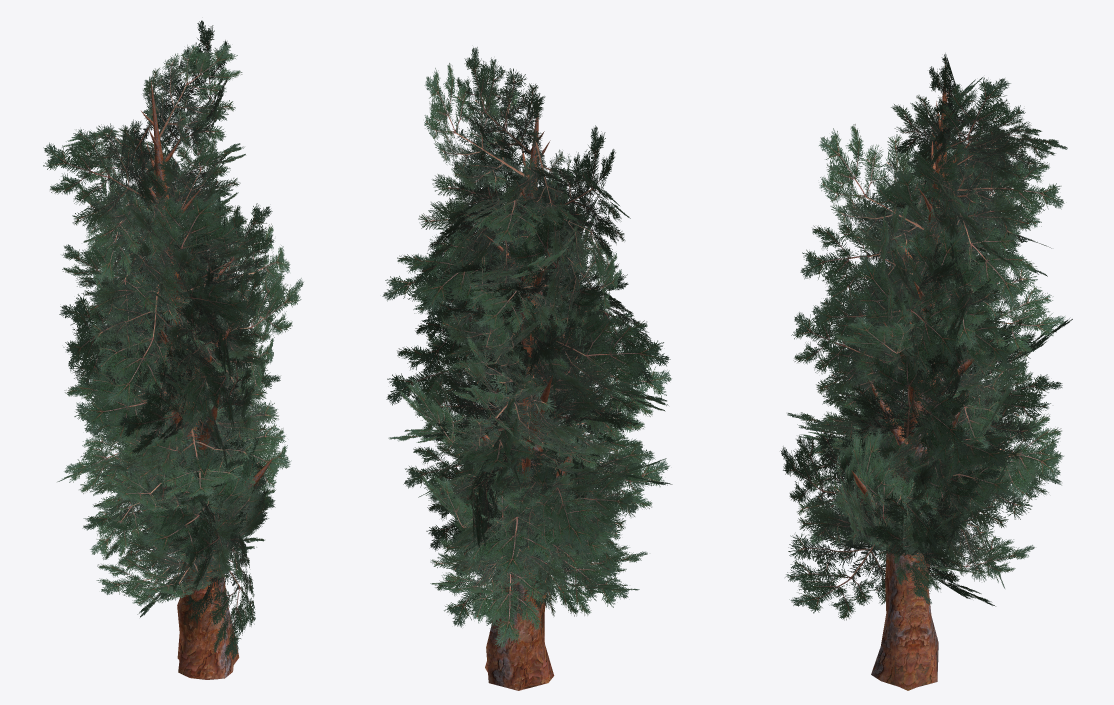
File: third.dae
The picture shows the model from 3 angles, left to right: view 1: azimuth 30°, elevation 25°; view 2: azimuth 150°, elevation 25°; view 3: azimuth 270°, elevation 25°; orthographic projection. The views are drawn at different scales.
Parts seen in each view (by area): view 1: treemesh; view 2: treemesh; view 3: treemesh.
Boxes of the visible parts, x1,y1,x2,y2 form: treemesh: (43, 20, 303, 679); treemesh: (382, 47, 672, 690); treemesh: (780, 53, 1072, 690).
Bounding box in the file's own units: 5.13 × 11.23 × 5.53.
Materials: 2 (2 with a texture image).
